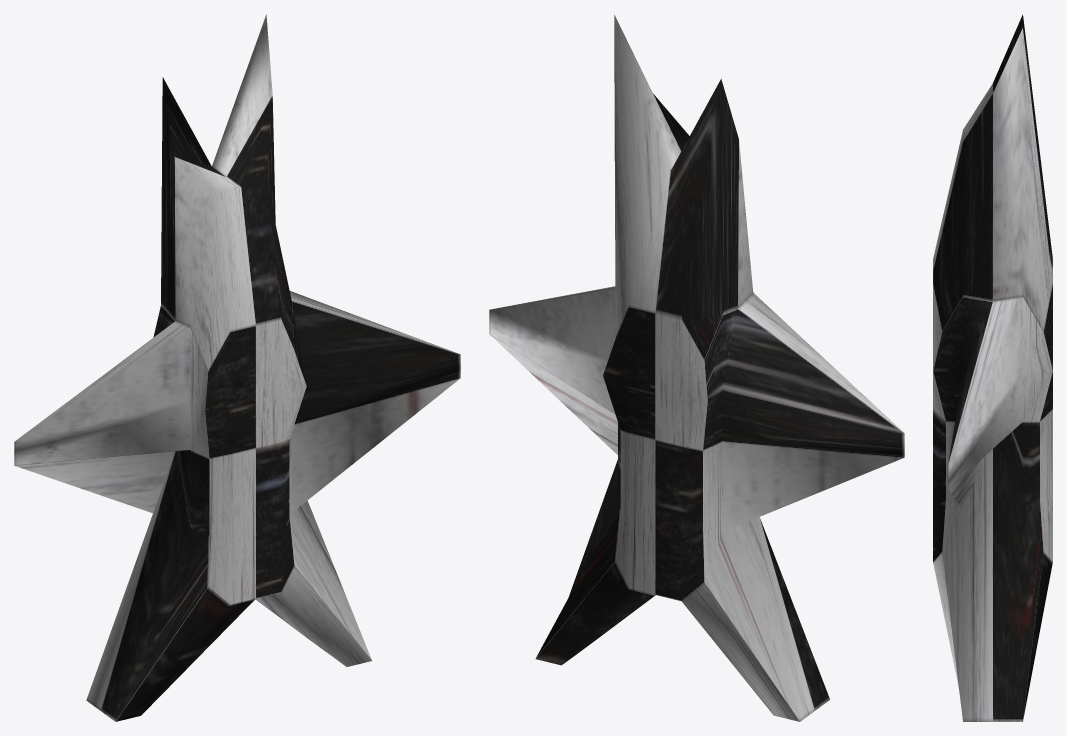
Rendered from Goal.fbx.
3 views of the same model, side by side, from view 1: azimuth 30°, elevation 25°; view 2: azimuth 150°, elevation 25°; view 3: azimuth 270°, elevation 25° (orthographic). The views are drawn at different scales.
Parts seen in each view (by area): view 1: pCube1; view 2: pCube1; view 3: pCube1.
Boxes of the visible parts, left/top/right/bottom form: pCube1: left=14, top=14, right=460, bottom=721; pCube1: left=489, top=15, right=904, bottom=721; pCube1: left=933, top=14, right=1052, bottom=721.
Bounding box in the file's own units: 5.24 × 7.59 × 1.25.
1 material, 1 textured.
